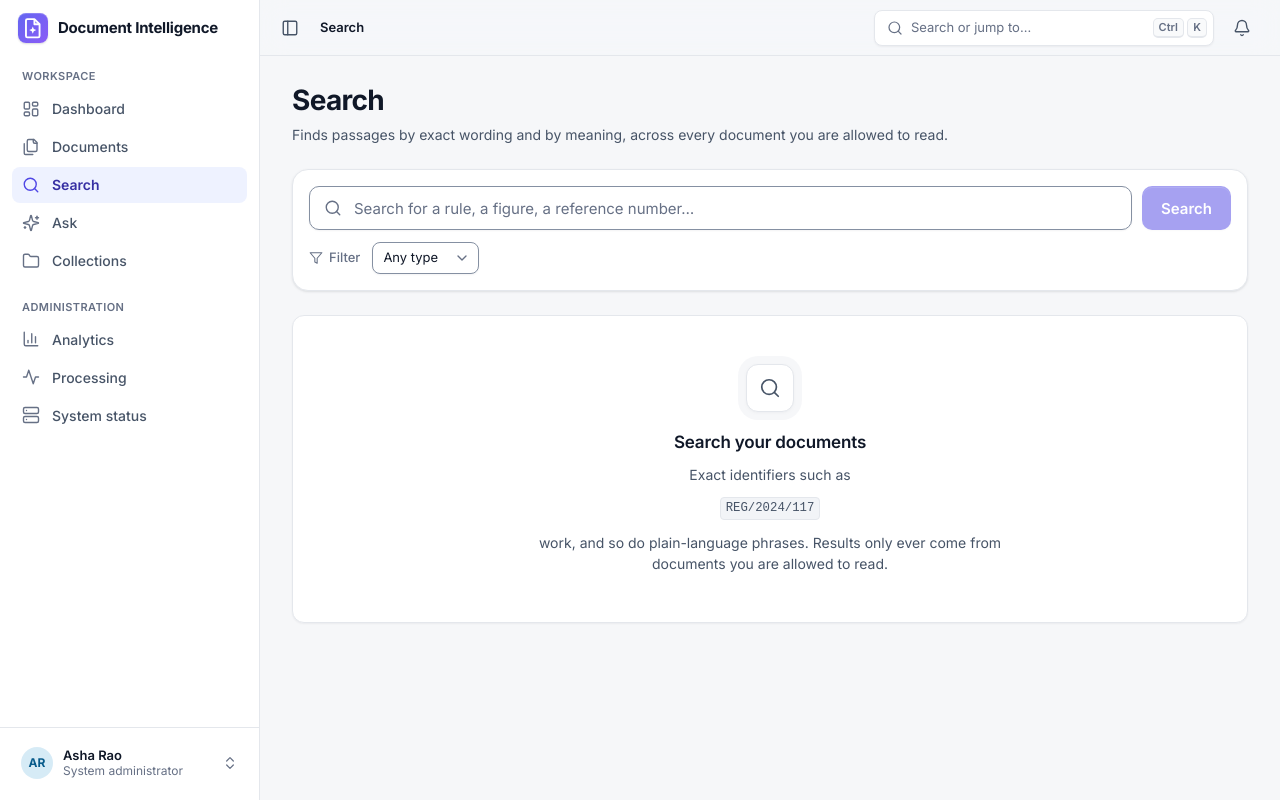
Scenario: search results by document › shows system administrators the diagnostics behind a disclosure
Type "fees" into the search field named "Search documents".
click(721, 208); type("fees")  # box [309,186,1132,230]
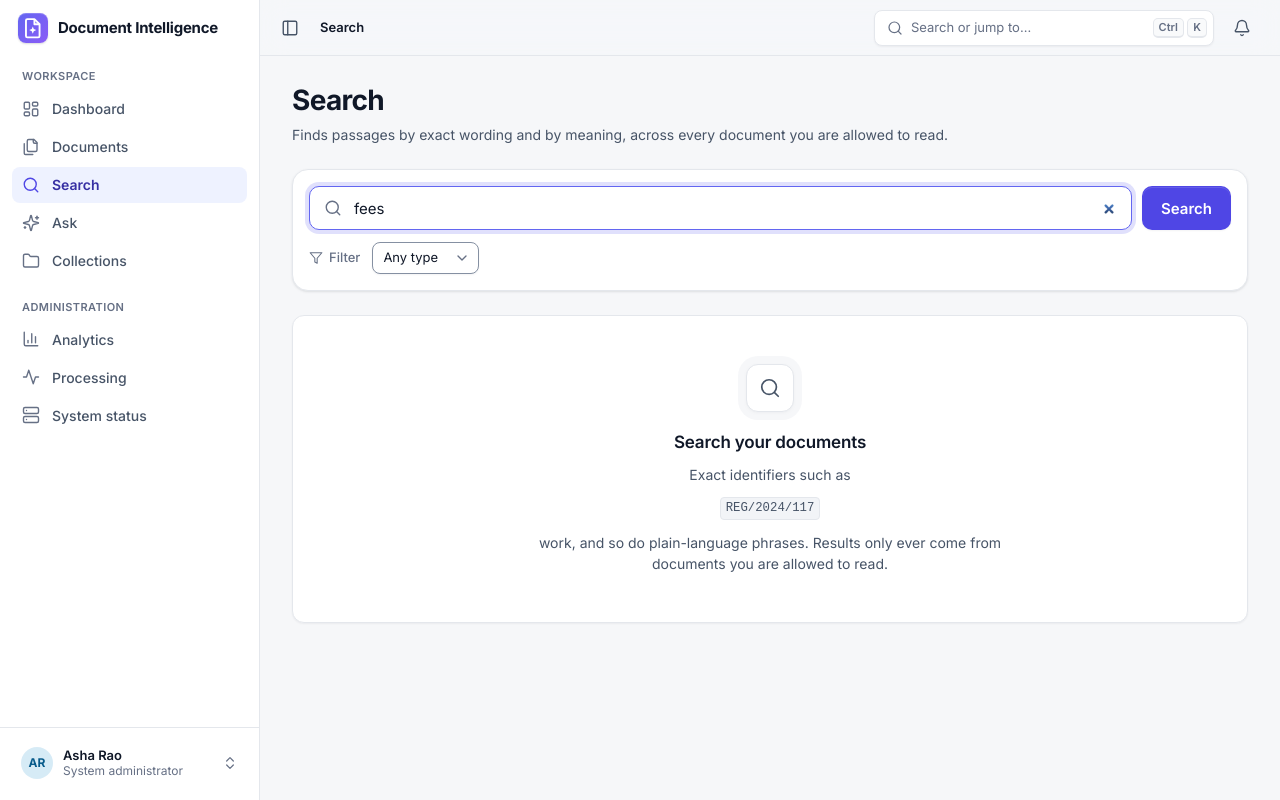
Click the button "Search".
click(1187, 208)  # box [1142,186,1231,230]
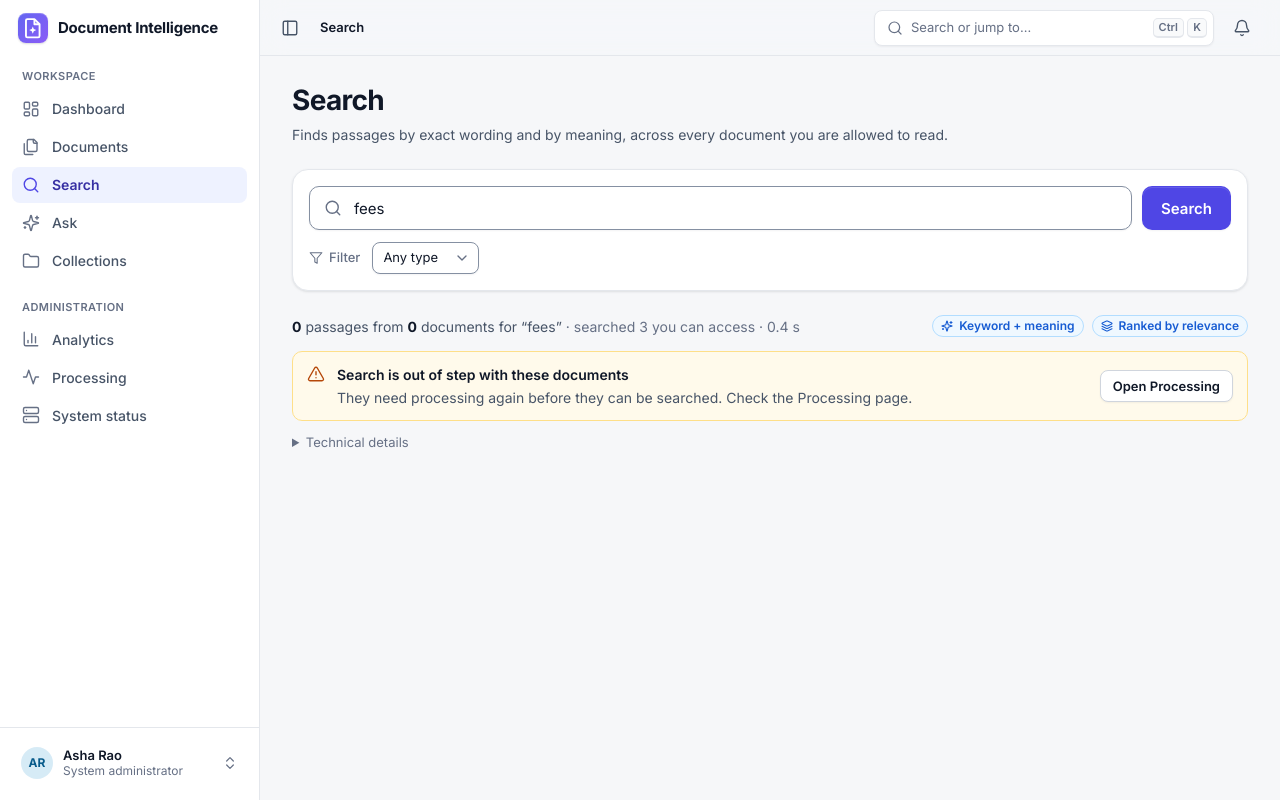
Check: the text "Search is out of step with these documents" is shown, box [337,366,629,383]
Check: the button "Open Processing" is shown, box [1100,370,1233,402]
Check: the heading "Technical details" is shown, box [306,434,409,450]
